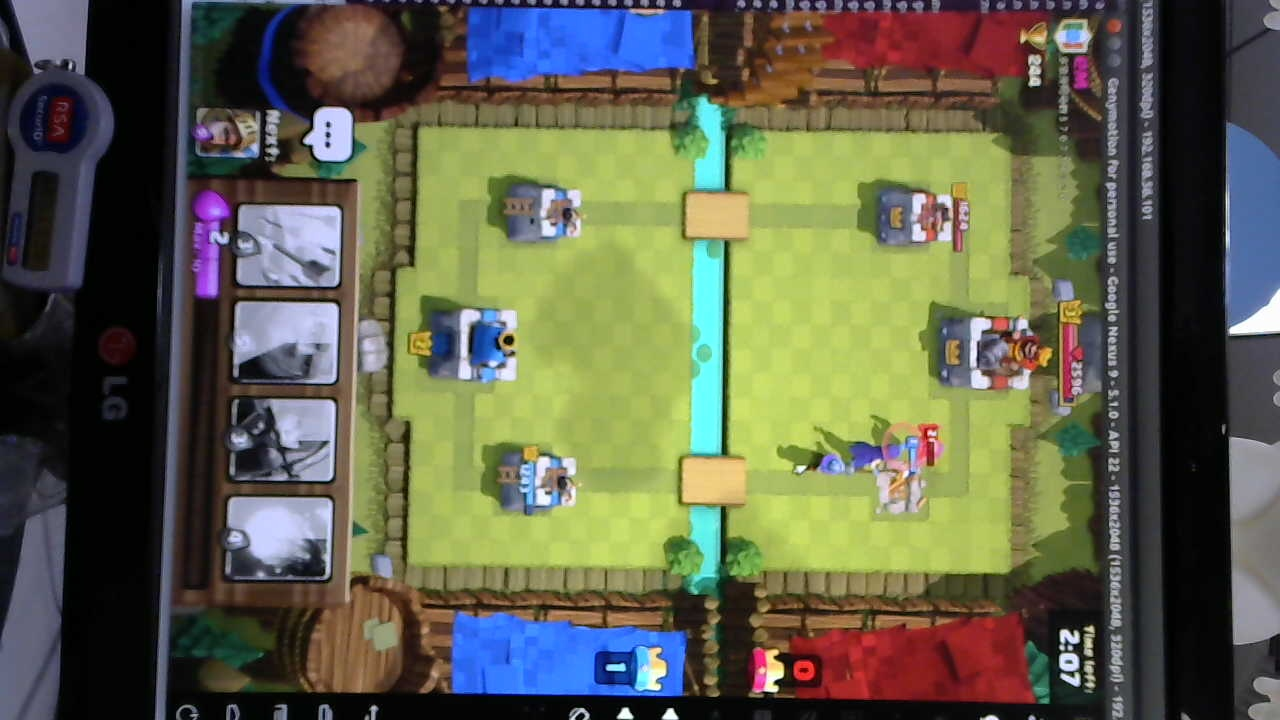arena: (504, 449, 584, 515), (503, 181, 584, 246)
darena: (866, 459, 925, 526)
earena: (873, 186, 957, 252)
eking: (934, 309, 1046, 395)
king: (428, 300, 523, 386)
musketeer: (795, 448, 851, 478)
witch: (843, 440, 904, 475)
